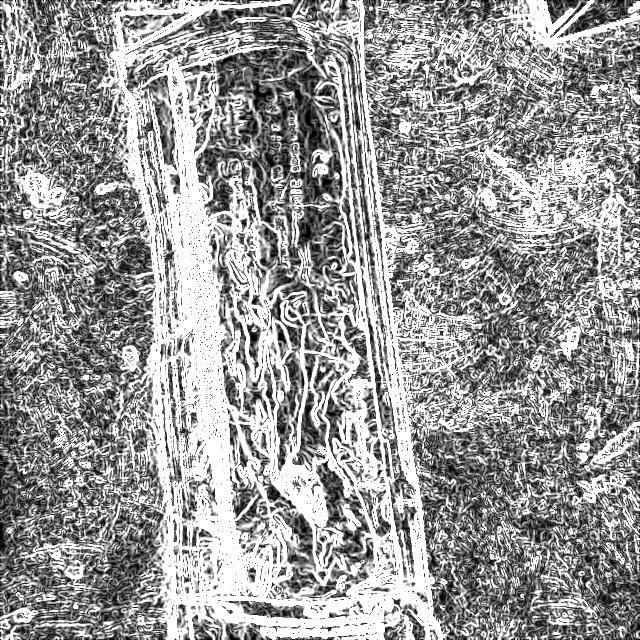elevador: (169, 61, 252, 592)
